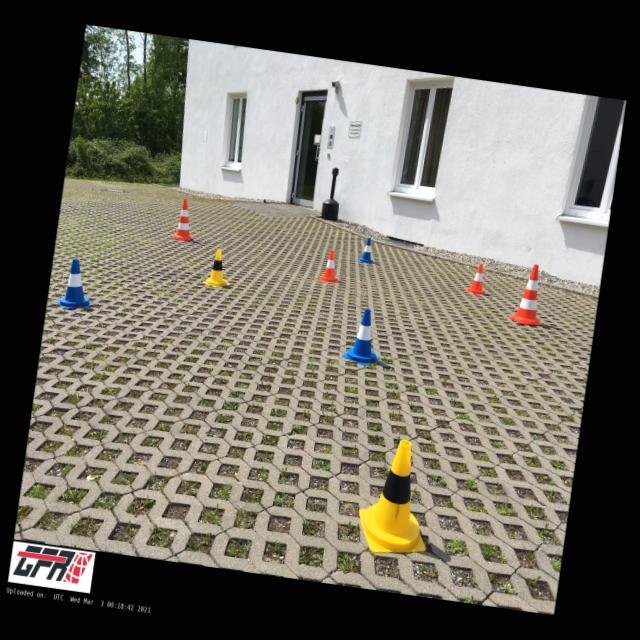blue_cone: (341, 306, 386, 368), (55, 257, 99, 313), (358, 238, 378, 264)
large_orange_cone: (507, 261, 551, 327), (172, 198, 198, 242)
orange_cone: (465, 263, 489, 295), (320, 250, 342, 282)
yellow_cone: (354, 435, 441, 559), (202, 248, 234, 290)
